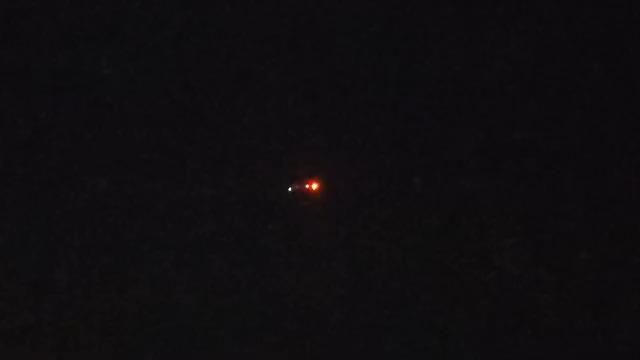Plane: (276, 169, 334, 204)
